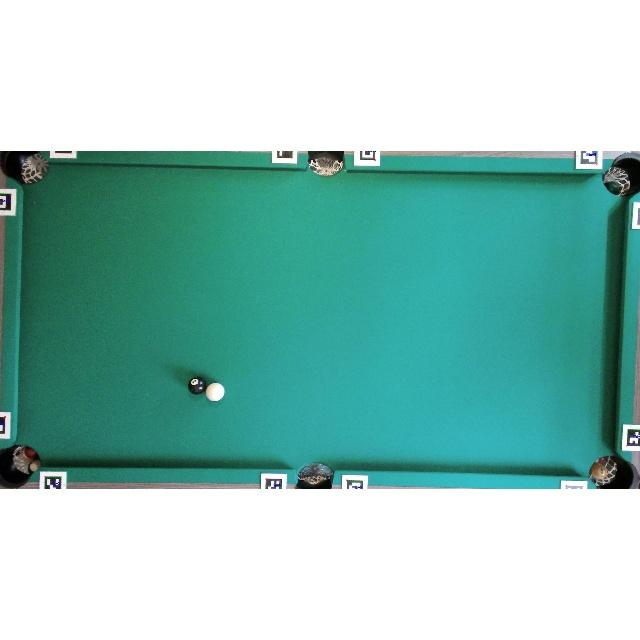cue ball: (205, 382, 225, 402)
other: (188, 376, 208, 396)
